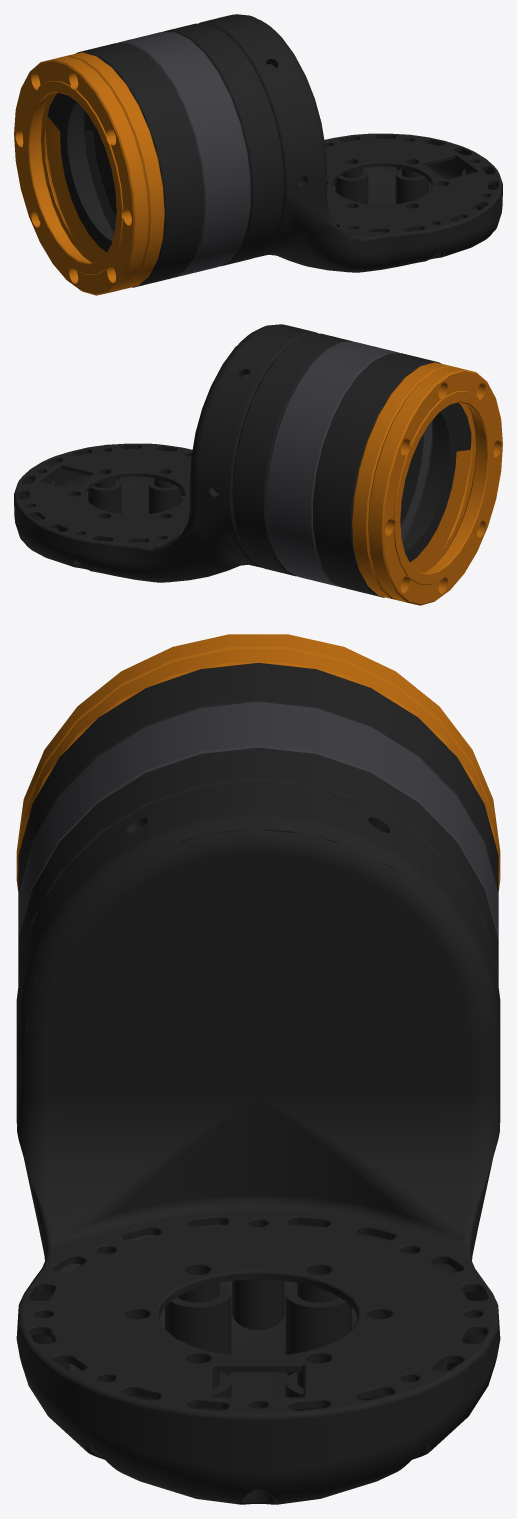
The model's file is Robolink_RebeL_005.dae.
3 views of the same model, one above another, from view 1: azimuth 30°, elevation 25°; view 2: azimuth 150°, elevation 25°; view 3: azimuth 270°, elevation 25° (orthographic). The views are drawn at different scales.
Parts seen in each view (by area): view 1: Robolink_RebeL_005; view 2: Robolink_RebeL_005; view 3: Robolink_RebeL_005.
Part boxes in pixels (<box>): Robolink_RebeL_005: <box>14,14,502,295</box>; Robolink_RebeL_005: <box>14,324,502,605</box>; Robolink_RebeL_005: <box>16,634,500,1504</box>.
Size of the model in its own units: 0.1583 by 0.08 by 0.0895.
